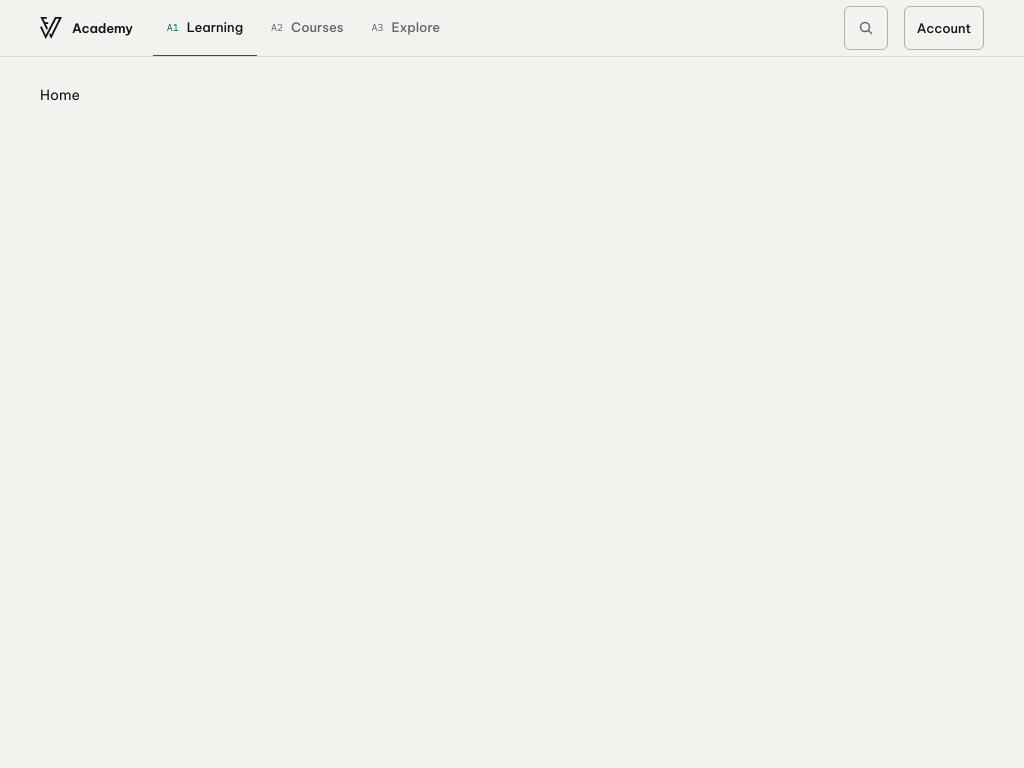
Test: learner command menu actions › saves the language through the locale endpoint and keeps a failure visible
The width and height of the screenshot is (1024, 768).
Press k in the heading "Home", box [40,86,80,104]
(page scrolled)
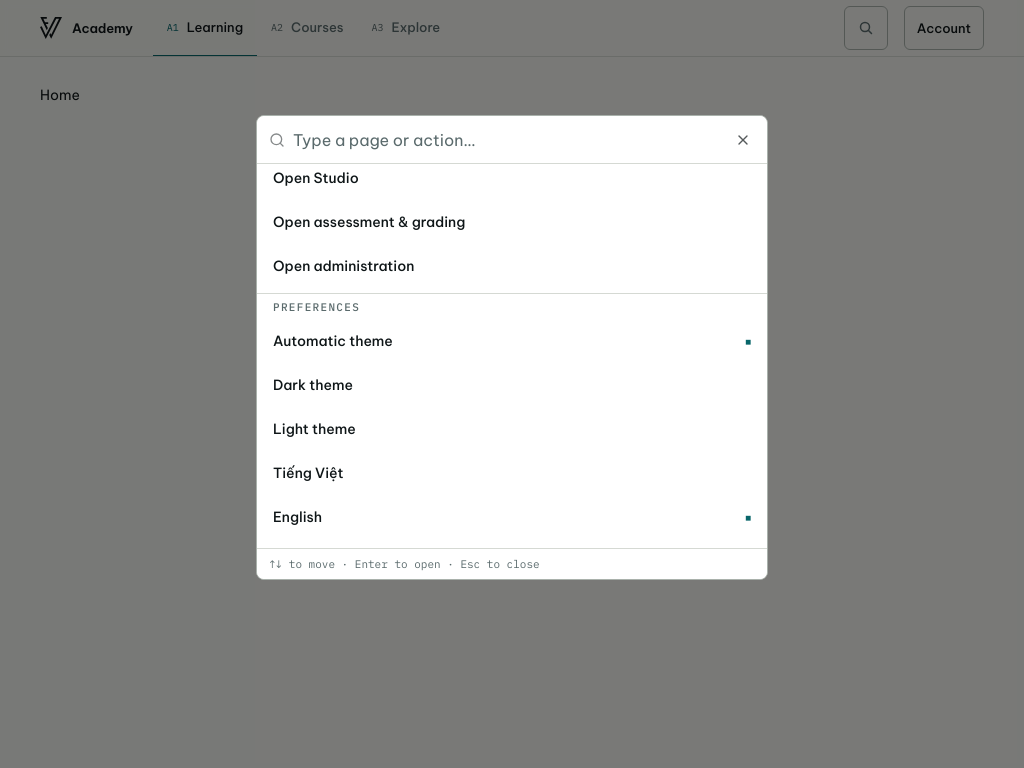
Click the option "Tiếng Việt" at (308, 473), box [273,464,344,482]
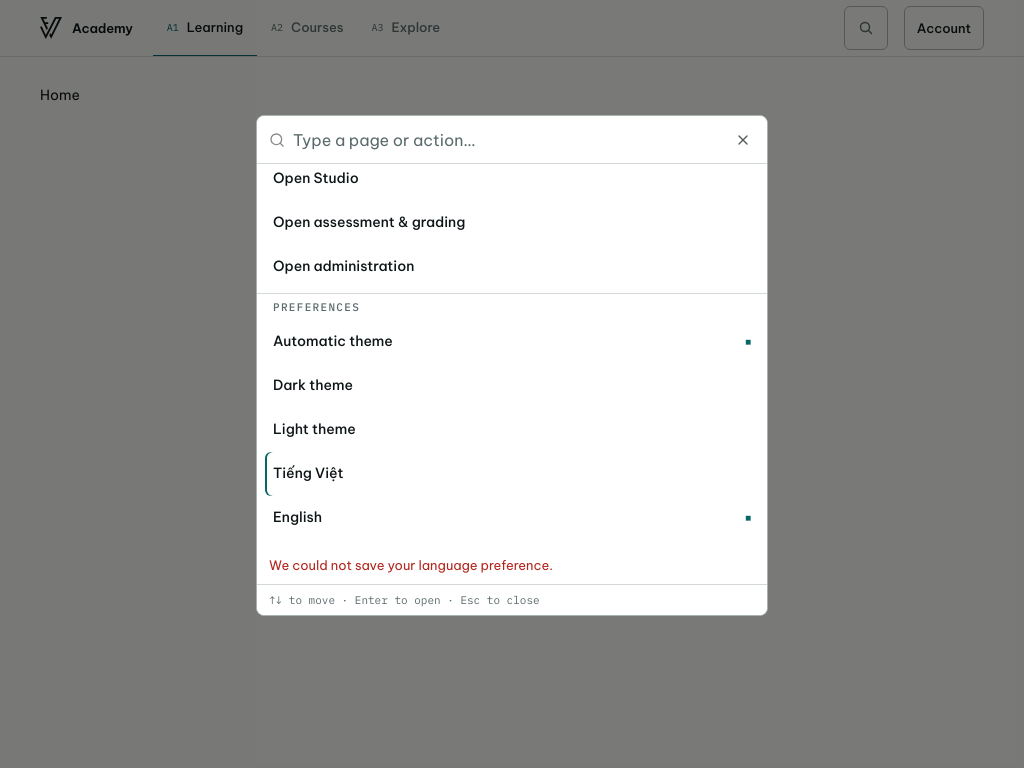
Now the dialog named "Command menu" is shown, box [256,115,768,616]
Now the message reads "We could not save your language preference.", box [269,557,553,573]
